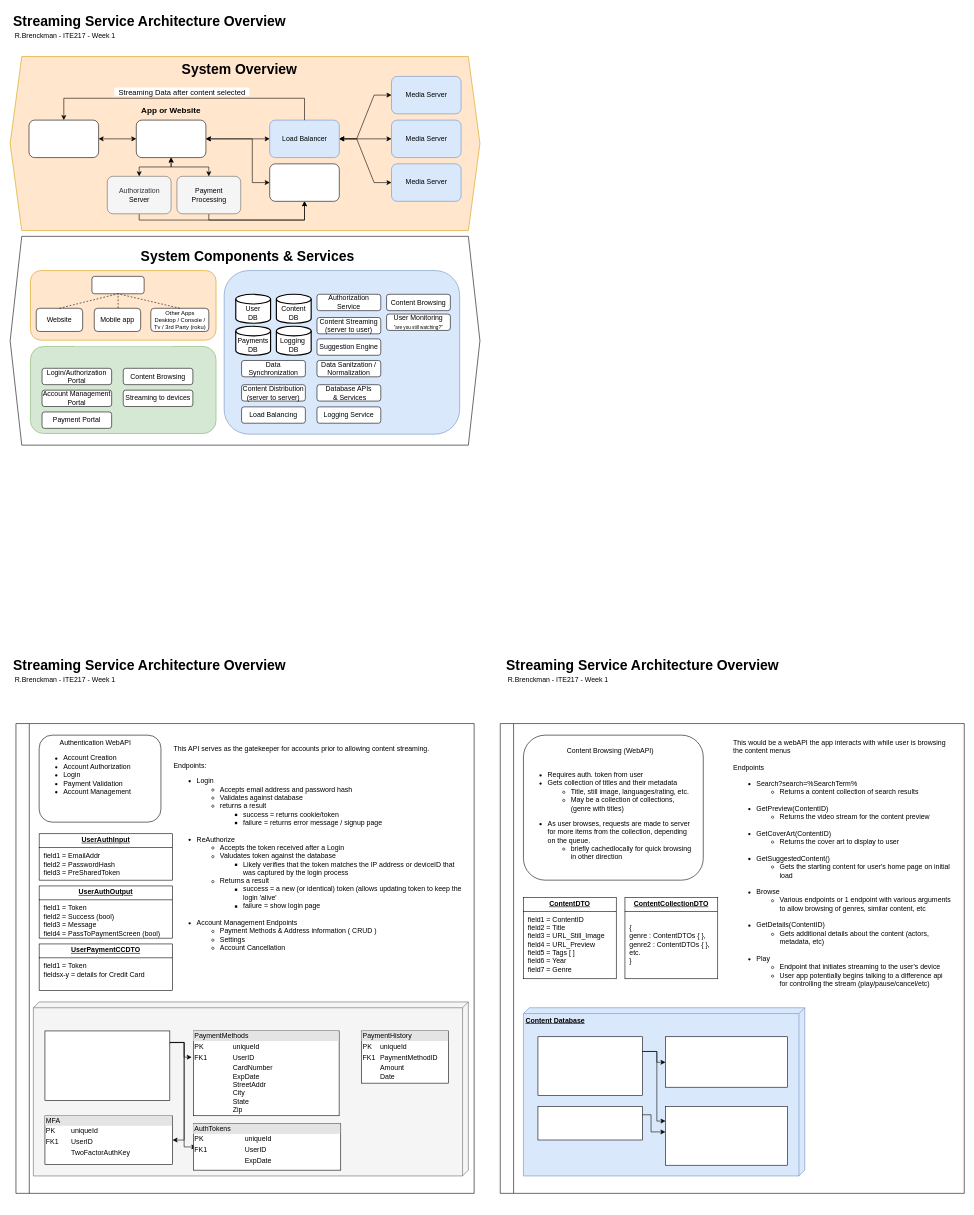
Some shapes in this 974 by 1215 pixel diagram are drawn without their labels. Each missing label, with the box of its shape:
Authentication Portal & Content Portal: (136, 120, 206, 158)
Authorization Database: (33, 1001, 468, 1176)
Core User Interface: (91, 276, 144, 294)
Database Servers: (269, 163, 339, 201)
Example Authorization API / Service: (15, 723, 474, 1193)
Example Content API / Service: (500, 723, 964, 1193)
Internal Services & APIs: (224, 270, 460, 434)
MediaMetadata PK ContentID Title Year Genre etc,: (537, 1036, 642, 1096)
MediaTags FK1 ContentID FK2 TagID: (665, 1106, 787, 1165)
MediaURLs PK uniqueId FK1 ContentID URL: (665, 1036, 787, 1087)
Public APIs/Endpoints: (74, 346, 172, 368)
Tags PK TagID Description: (537, 1106, 642, 1140)
User Device: (28, 120, 99, 158)
Users PK UserID FirstName LastName PasswordHash etc. IsPaid: (44, 1030, 170, 1101)
